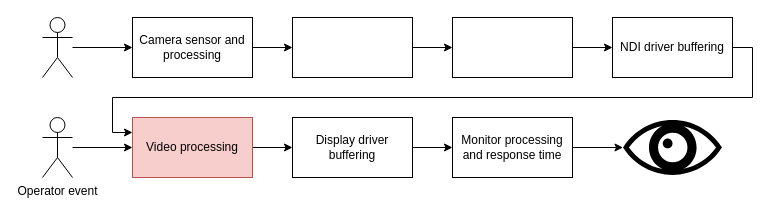
This 778x216 diagram has some shape labels left out. The shapes that lost their labels are listed below. From the top down, each one's box as (x1, y1, x2, y2) in pixels, then its label:
(42, 16, 72, 78): Set event
(292, 16, 412, 78): NDI frame encoding
(452, 16, 572, 78): IP network
